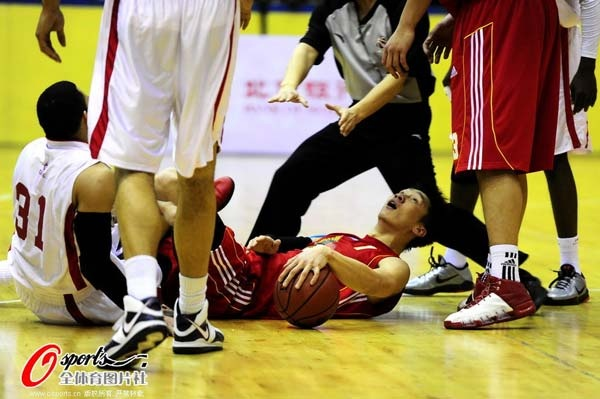falling: (14, 53, 264, 350)
